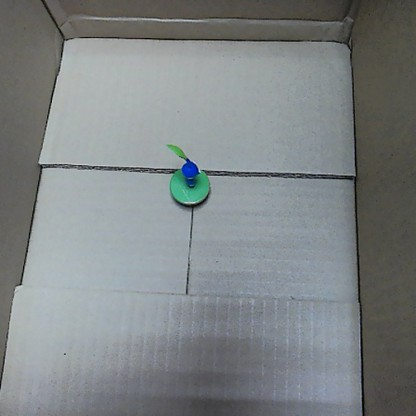leafairy: (159, 138, 210, 209)
